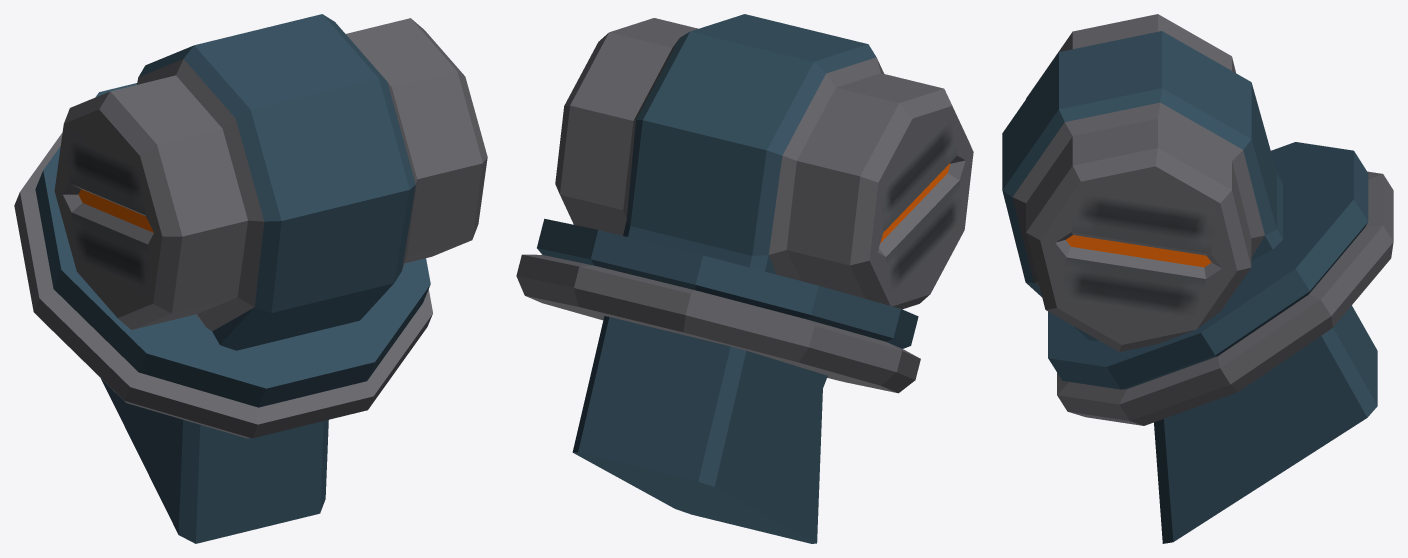
Rendered from mech_SM_Mech_Neck_01_Frame_01.gltf.
The picture shows the model from 3 angles, left to right: view 1: azimuth 30°, elevation 25°; view 2: azimuth 150°, elevation 25°; view 3: azimuth 270°, elevation 25°; orthographic projection. The views are drawn at different scales.
Parts seen in each view (by area): view 1: SM_Mech_Neck_01_Frame_01; view 2: SM_Mech_Neck_01_Frame_01; view 3: SM_Mech_Neck_01_Frame_01.
Part boxes in pixels (box(x1,y1,x2,y2)): SM_Mech_Neck_01_Frame_01: box(14, 14, 487, 543); SM_Mech_Neck_01_Frame_01: box(516, 14, 973, 543); SM_Mech_Neck_01_Frame_01: box(1002, 14, 1393, 543).
Size of the model in its own units: 0.3402 by 0.4336 by 0.3366.
Materials: 1 (1 with a texture image).
